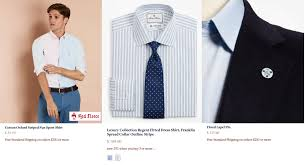F_shirt: (28, 28, 90, 86)
F_tie: (142, 40, 168, 118)
